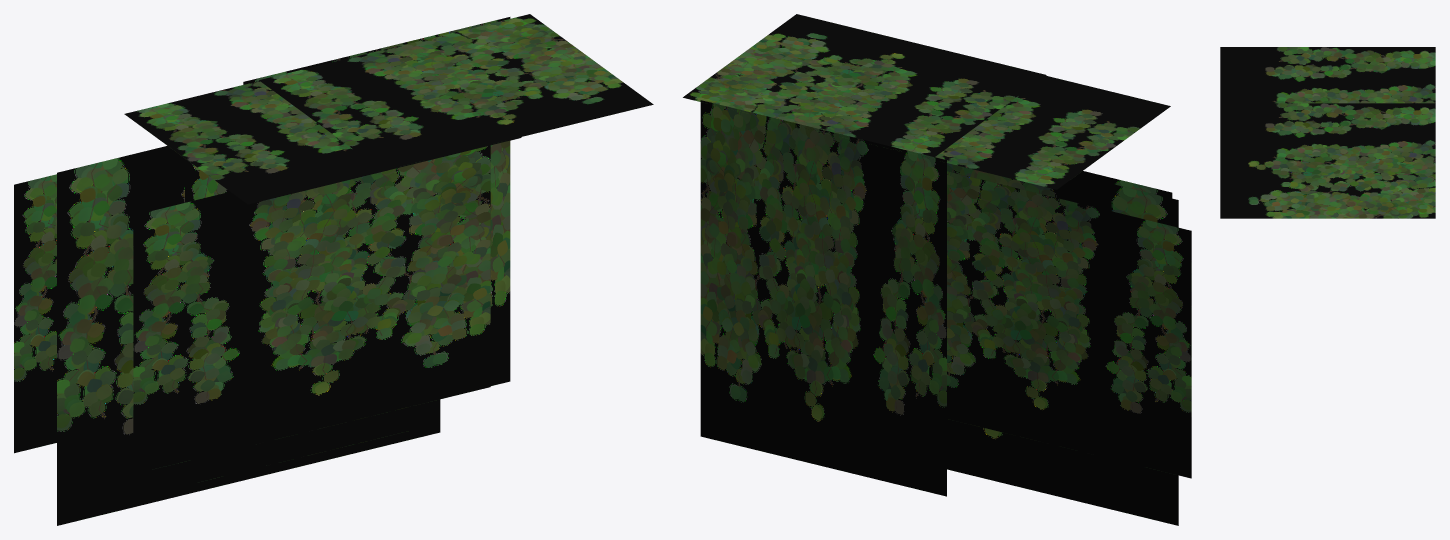
File: Prop_Vine6_LOD1.gltf
3 views of the same model, side by side, from view 1: azimuth 30°, elevation 25°; view 2: azimuth 150°, elevation 25°; view 3: azimuth 270°, elevation 25° (orthographic). The views are drawn at different scales.
Visible parts, largest first — view 1: Prop_Vine6_LOD1; view 2: Prop_Vine6_LOD1; view 3: Prop_Vine6_LOD1.
Boxes of the visible parts, x1=… form: Prop_Vine6_LOD1: x1=14, y1=14, x2=653, y2=525; Prop_Vine6_LOD1: x1=683, y1=14, x2=1191, y2=525; Prop_Vine6_LOD1: x1=1220, y1=47, x2=1435, y2=218.
Size of the model in its own units: 3.66 by 2.4 by 1.47.
Materials: 1 (1 with a texture image).
